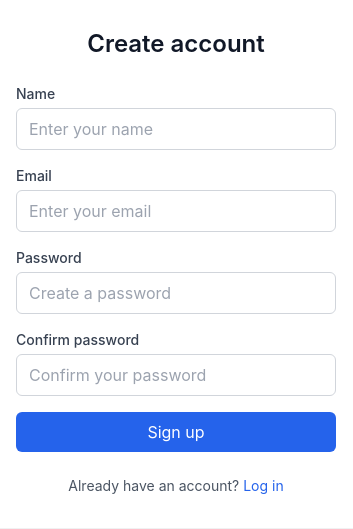
Test case: Signup › shows validation error when password is too short
The width and height of the screenshot is (353, 529).
In the field labelled "Name": (176, 129) top-left (16, 108), bottom-right (336, 150), type "Test User"
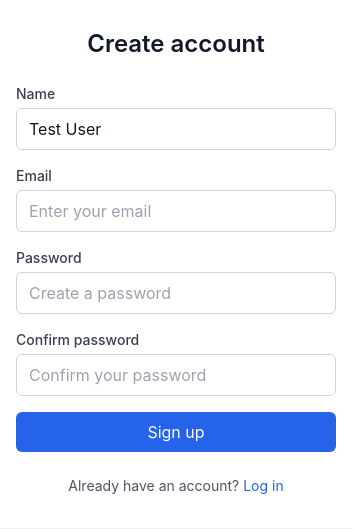
In the field labelled "Email": (176, 211) top-left (16, 190), bottom-right (336, 232), type "test@example.com"
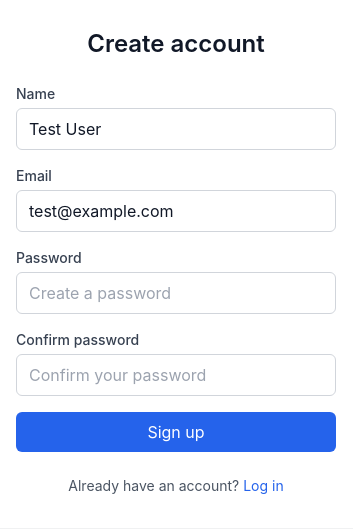
In the password field labelled "Password": (176, 293) top-left (16, 272), bottom-right (336, 314), type "short"
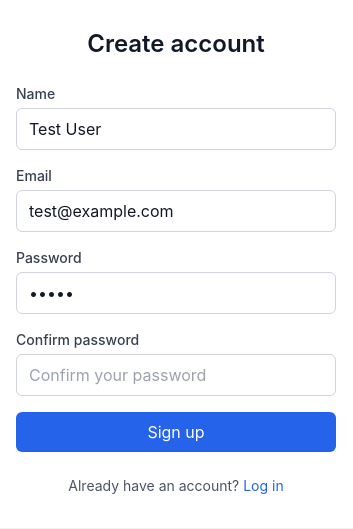
In the password field labelled "Confirm password": (176, 375) top-left (16, 354), bottom-right (336, 396), type "short"
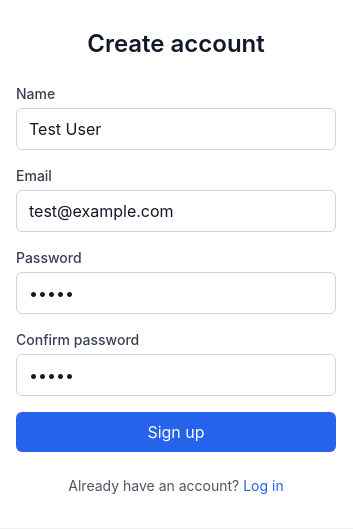
Click the button "Sign up": (176, 432) top-left (16, 412), bottom-right (336, 452)
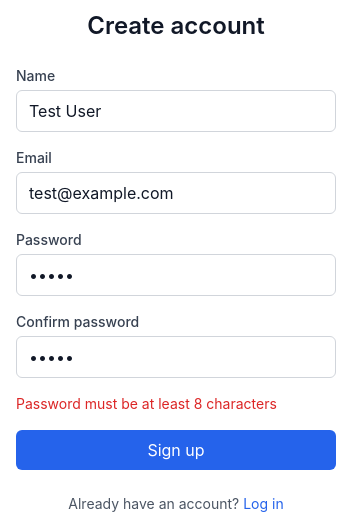
Expected: the text "Password must be at least 8 characters" is shown, top-left (16, 395), bottom-right (277, 412)
